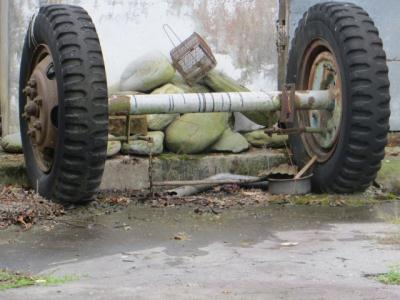bowl: (266, 168, 315, 197)
tire: (282, 1, 395, 197), (16, 3, 111, 207)
